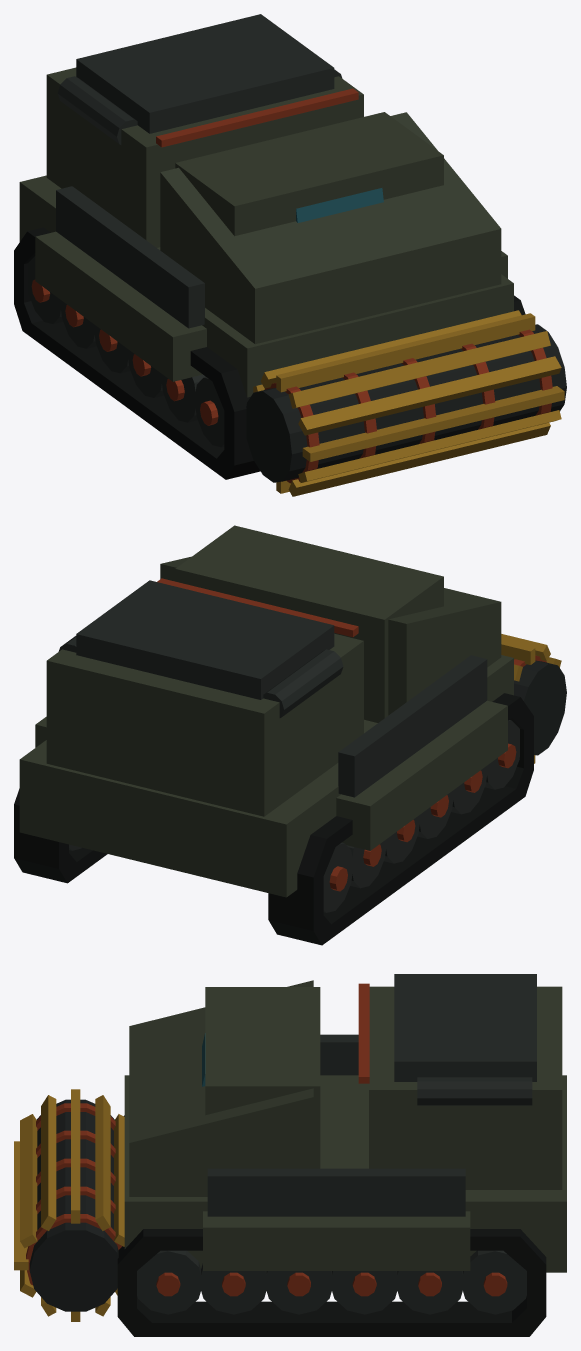
The model's file is Bastion_Harvester_Static.glb.
3 renders of one model, top to bottom at view 1: azimuth 30°, elevation 25°; view 2: azimuth 150°, elevation 25°; view 3: azimuth 270°, elevation 25°, orthographic. The views are drawn at different scales.
Parts seen in each view (by area): view 1: world; view 2: world; view 3: world.
Boxes of the visible parts, x1,y1,x2,y2 form: world: (14,14,566,496); world: (14,525,566,945); world: (14,974,566,1336).
Size of the model in its own units: 4.08 by 2.97 by 6.
1 material, 1 textured.
